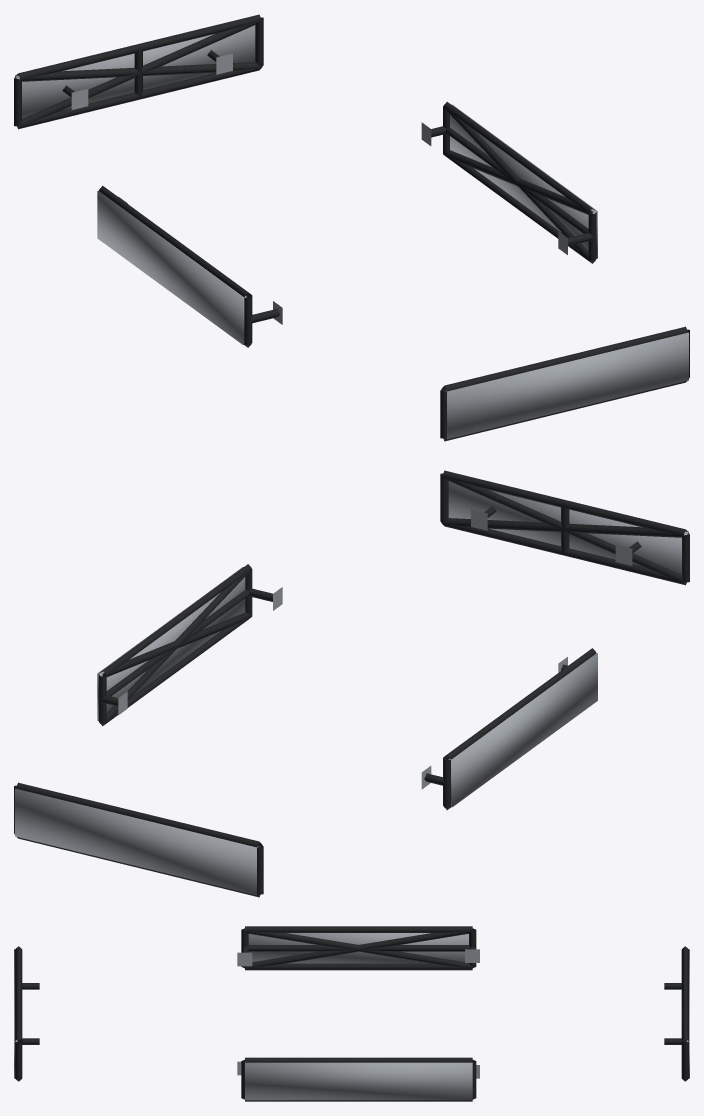
File: bancroft_granito_protecao.glb
3 renders of one model, top to bottom at view 1: azimuth 30°, elevation 25°; view 2: azimuth 150°, elevation 25°; view 3: azimuth 270°, elevation 25°, orthographic. The views are drawn at different scales.
Parts seen in each view (by area): view 1: Protection_front_Level3_Details, Protection_left_Level3_Details, Protection_rear_Level3_Details, Protection_rear_Level1_Details, Protection_rear_Level2_Details, Protection_right_Level1_Details, Protection_right_Level2_Details, Protection_right_Level3_Details, Protection_front_Level1_Details, Protection_left_Level1_Details; view 2: Protection_rear_Level3_Details, Protection_left_Level3_Details, Protection_front_Level3_Details, Protection_front_Level1_Details, Protection_front_Level2_Details, Protection_right_Level1_Details, Protection_right_Level2_Details, Protection_right_Level3_Details, Protection_rear_Level1_Details, Protection_left_Level1_Details; view 3: Protection_right_Level3_Details, Protection_left_Level2_Details, Protection_left_Level1_Details, Protection_left_Level3_Details, Protection_right_Level1_Details, Protection_rear_Level1_Details, Protection_front_Level1_Details.
Part boxes in pixels (x1=…): Protection_front_Level3_Details: x1=445, y1=332, x2=688, y2=439; Protection_left_Level3_Details: x1=97, y1=191, x2=246, y2=344; Protection_rear_Level3_Details: x1=15, y1=25, x2=255, y2=118; Protection_rear_Level1_Details: x1=14, y1=14, x2=263, y2=129; Protection_rear_Level2_Details: x1=16, y1=20, x2=261, y2=128; Protection_right_Level1_Details: x1=421, y1=102, x2=596, y2=263; Protection_right_Level2_Details: x1=443, y1=108, x2=595, y2=263; Protection_right_Level3_Details: x1=450, y1=104, x2=597, y2=258; Protection_front_Level1_Details: x1=440, y1=326, x2=689, y2=441; Protection_left_Level1_Details: x1=98, y1=185, x2=282, y2=347; Protection_rear_Level3_Details: x1=15, y1=788, x2=258, y2=895; Protection_left_Level3_Details: x1=448, y1=653, x2=597, y2=807; Protection_front_Level3_Details: x1=448, y1=481, x2=688, y2=574; Protection_front_Level1_Details: x1=440, y1=470, x2=689, y2=585; Protection_front_Level2_Details: x1=442, y1=476, x2=687, y2=584; Protection_right_Level1_Details: x1=98, y1=564, x2=282, y2=726; Protection_right_Level2_Details: x1=99, y1=570, x2=251, y2=725; Protection_right_Level3_Details: x1=97, y1=567, x2=245, y2=720; Protection_rear_Level1_Details: x1=14, y1=782, x2=263, y2=897; Protection_left_Level1_Details: x1=421, y1=648, x2=596, y2=809; Protection_right_Level3_Details: x1=245, y1=1062, x2=472, y2=1100; Protection_left_Level2_Details: x1=244, y1=929, x2=472, y2=968; Protection_left_Level1_Details: x1=237, y1=926, x2=479, y2=970; Protection_left_Level3_Details: x1=248, y1=933, x2=468, y2=963; Protection_right_Level1_Details: x1=237, y1=1057, x2=479, y2=1101; Protection_rear_Level1_Details: x1=664, y1=946, x2=688, y2=1081; Protection_front_Level1_Details: x1=15, y1=946, x2=39, y2=1081.
Bounding box in the file's own units: 2.35 × 0.354 × 4.96.
Materials: 1 (1 with a texture image).
